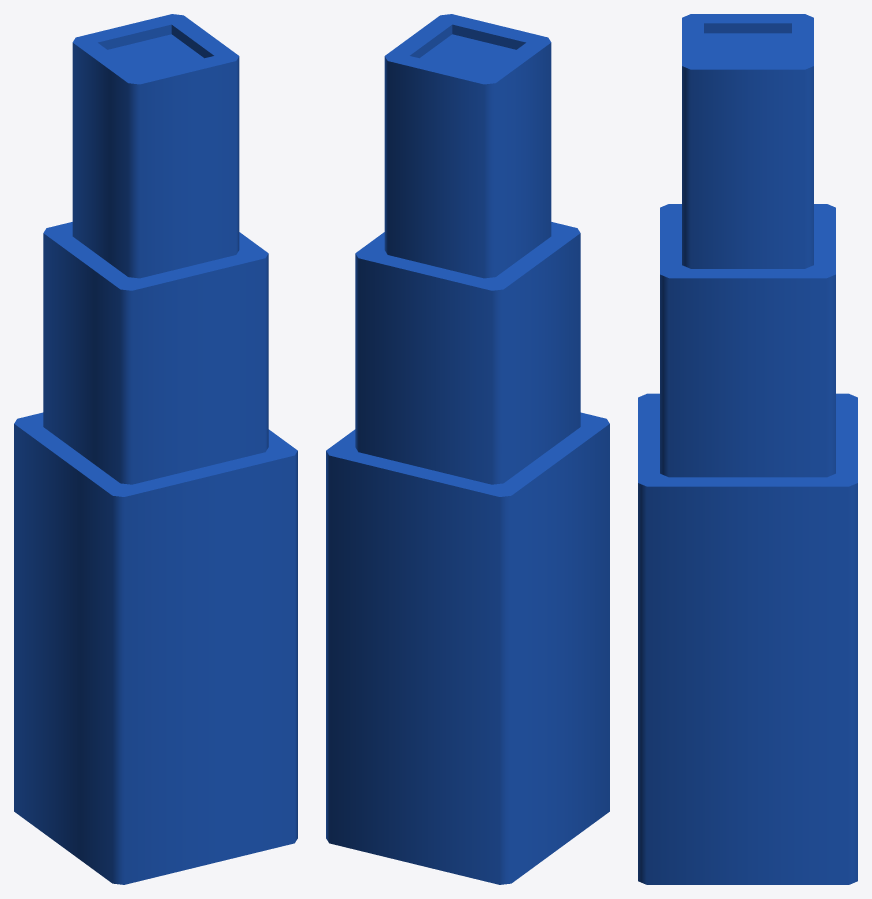
Rendered from low-detail-building-f.glb.
3 renders of one model, left to right at view 1: azimuth 30°, elevation 25°; view 2: azimuth 150°, elevation 25°; view 3: azimuth 270°, elevation 25°, orthographic. The views are drawn at different scales.
Visible parts, largest first — view 1: low-detail-building-f; view 2: low-detail-building-f; view 3: low-detail-building-f.
Part boxes in pixels (<box>): low-detail-building-f: <box>14,14,297,884</box>; low-detail-building-f: <box>326,14,609,884</box>; low-detail-building-f: <box>638,14,857,884</box>.
Size of the model in its own units: 0.5 by 2 by 0.5.
